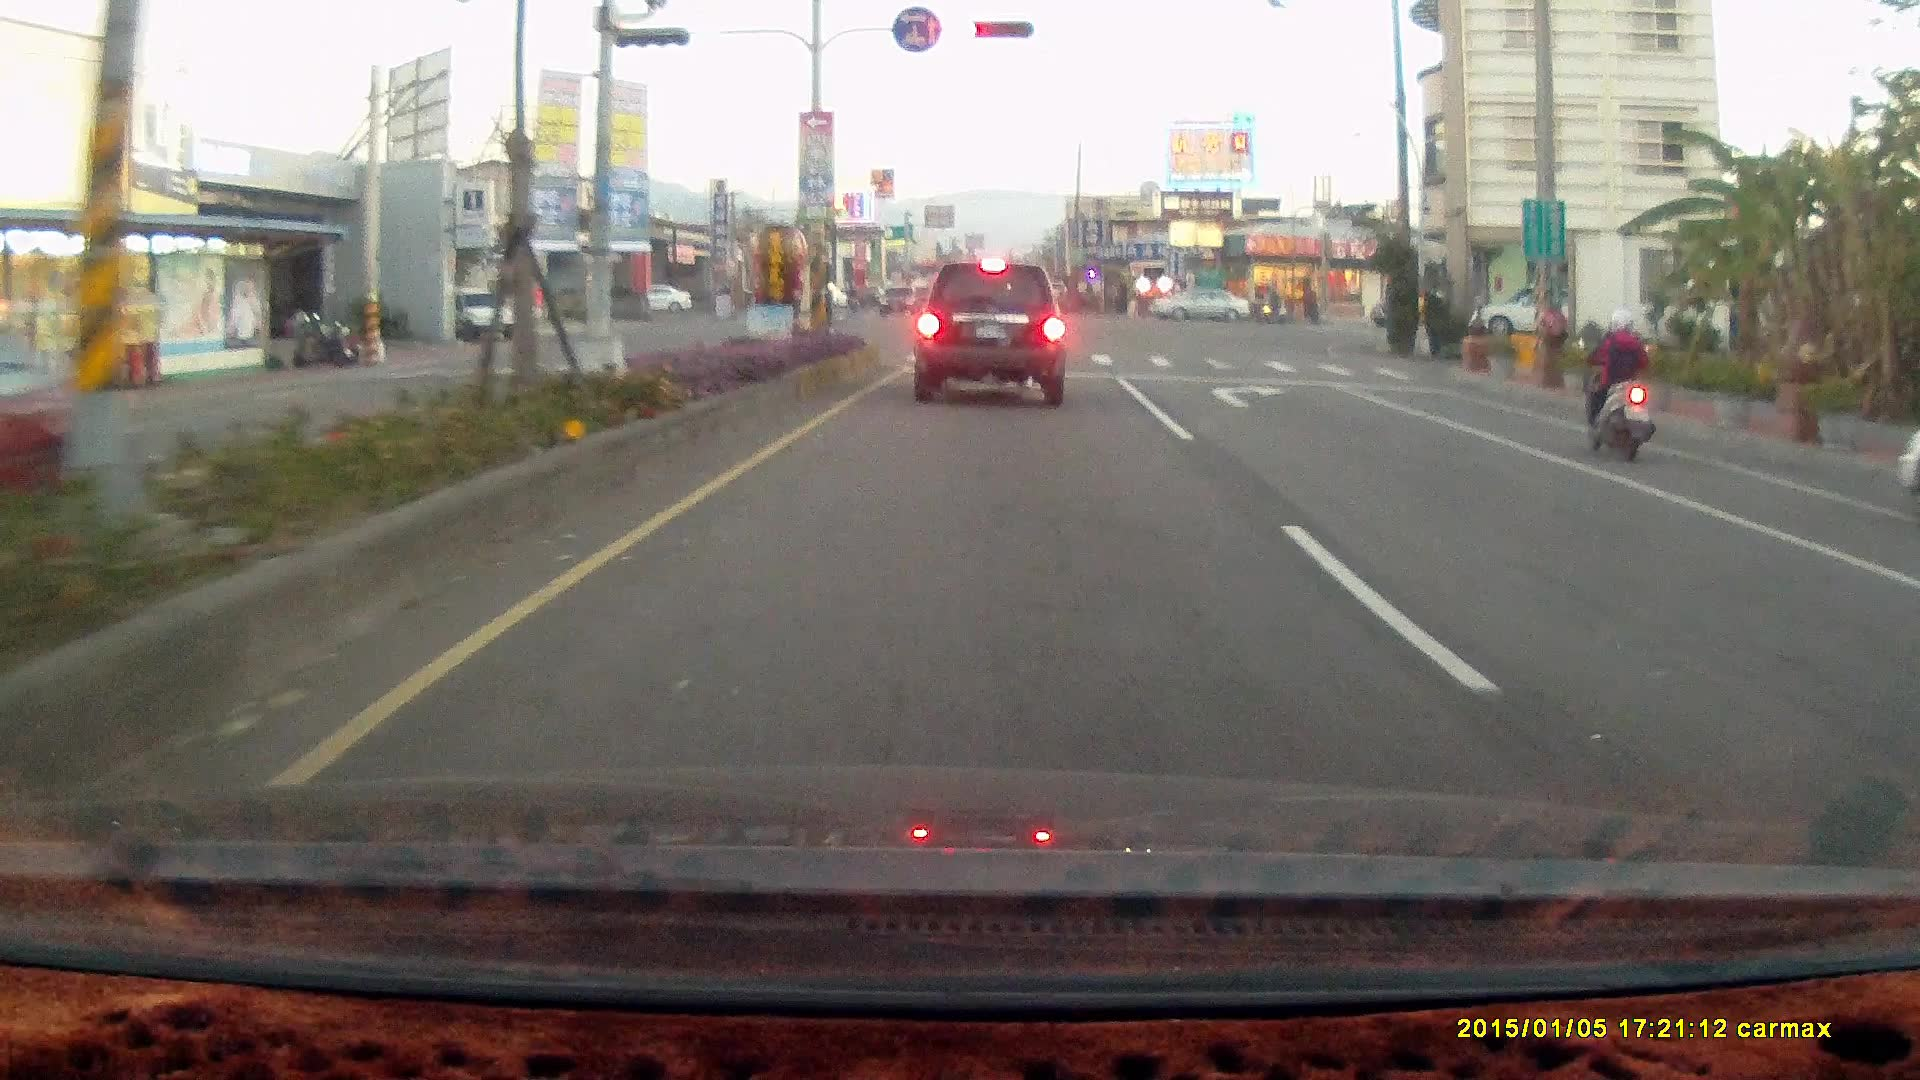rider: (1575, 305, 1656, 463), (1257, 283, 1290, 322)
vehicle: (912, 261, 1066, 407), (1896, 493, 1920, 836), (1472, 282, 1599, 343), (1475, 284, 1591, 345), (1883, 528, 1920, 690), (1145, 289, 1253, 328), (443, 285, 519, 340), (1145, 285, 1252, 322), (1891, 425, 1920, 533)
